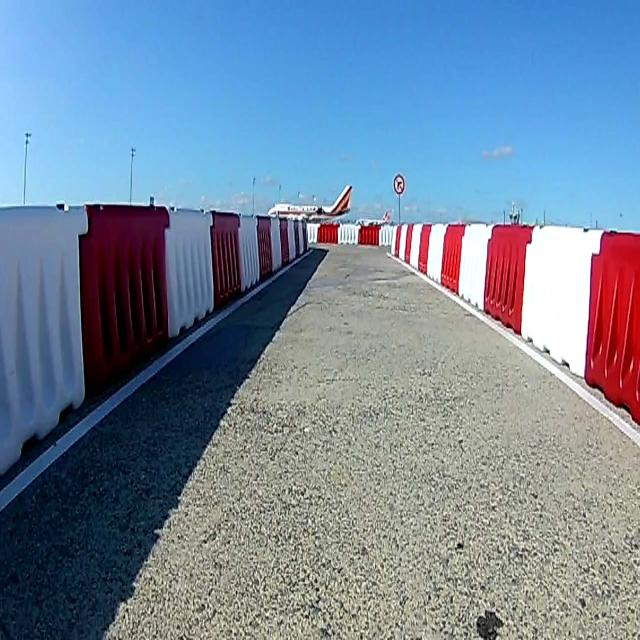sagadonulmez: (393, 173, 405, 194)
